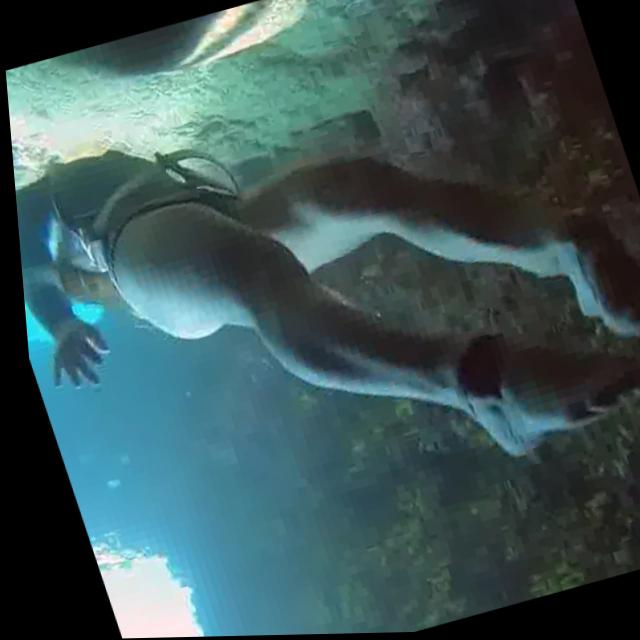human: (1, 9, 640, 593)
